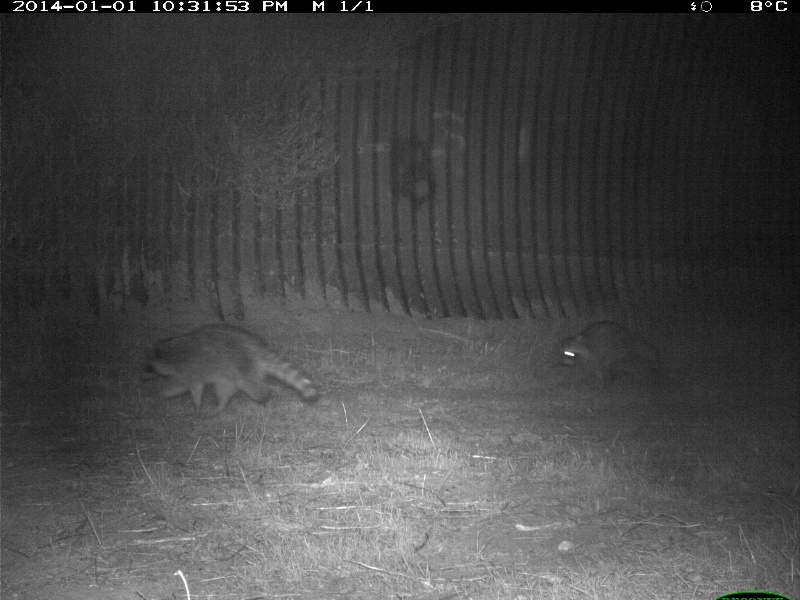raccoon: (143, 321, 322, 409), (555, 318, 662, 390)
